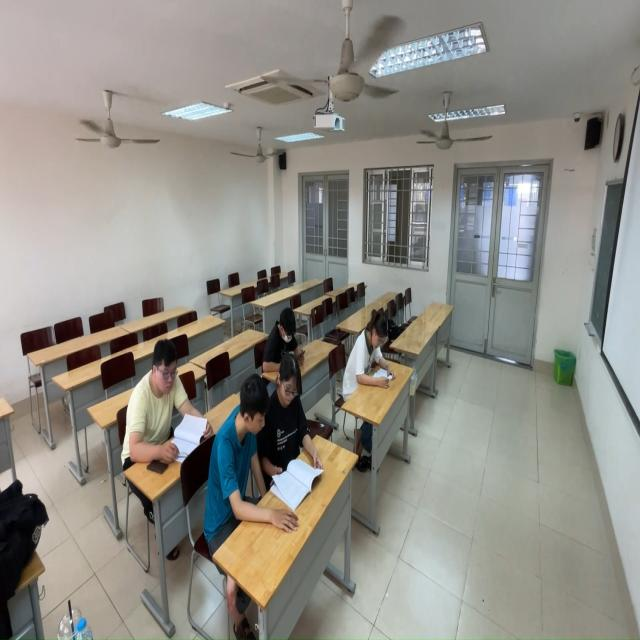read: (122, 338, 216, 472), (203, 365, 273, 542), (264, 349, 322, 504), (342, 301, 403, 404), (262, 302, 313, 371)
